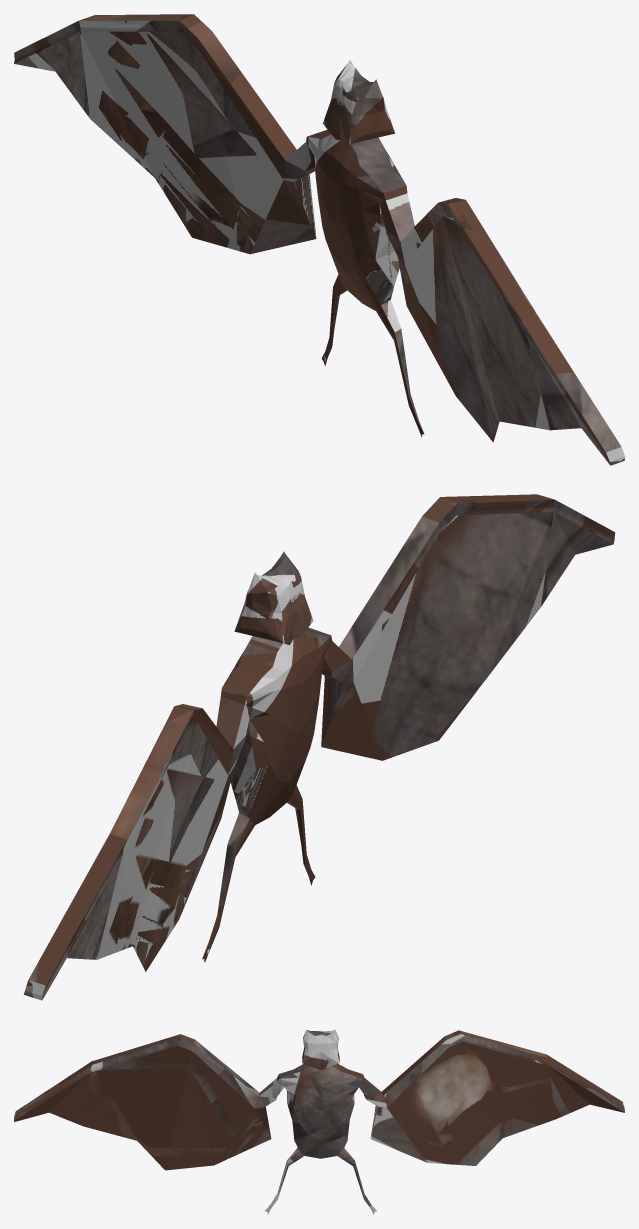
File: Enemigo114.obj
3 renders of one model, top to bottom at view 1: azimuth 30°, elevation 25°; view 2: azimuth 150°, elevation 25°; view 3: azimuth 270°, elevation 25°, orthographic. The views are drawn at different scales.
Visible parts, largest first — view 1: Plano; view 2: Plano; view 3: Plano.
Part boxes in pixels (x1=…): Plano: x1=14, y1=14, x2=624, y2=465; Plano: x1=23, y1=494, x2=615, y2=1000; Plano: x1=14, y1=1029, x2=624, y2=1214.
Bounding box in the file's own units: 0.241 × 0.7594 × 2.3.
Materials: 1 (1 with a texture image).
